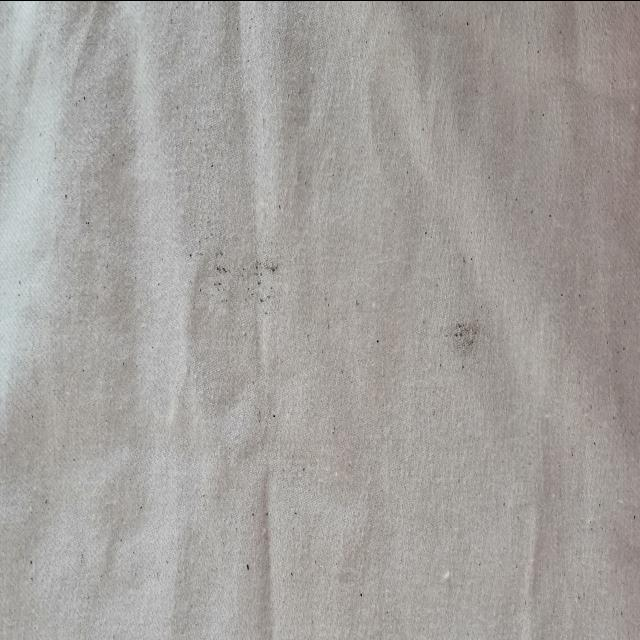taaaches: (207, 231, 299, 305), (438, 302, 498, 369)
